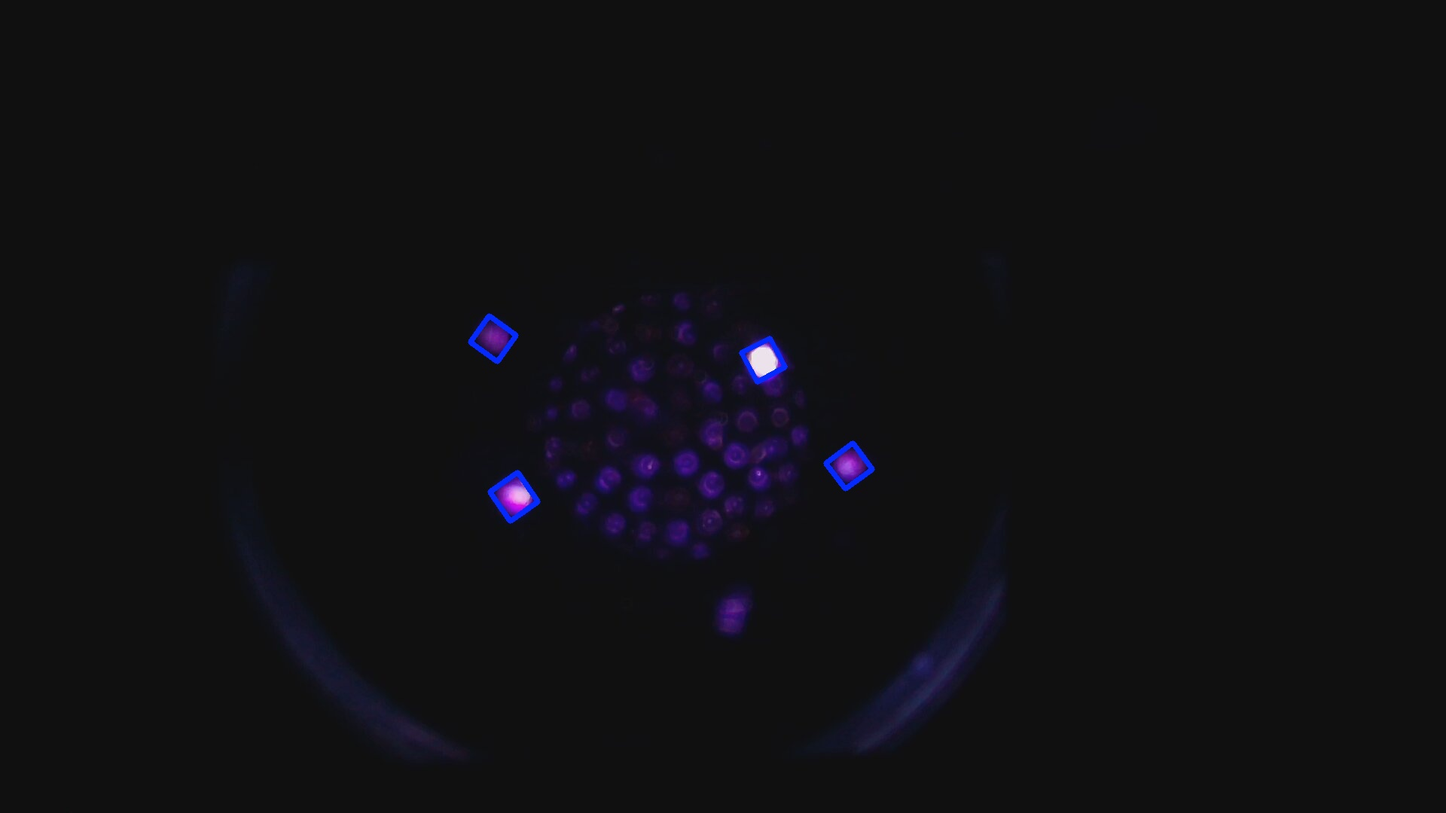plastic: (492, 475, 535, 518), (829, 446, 870, 487), (473, 318, 514, 359), (744, 341, 783, 380)
